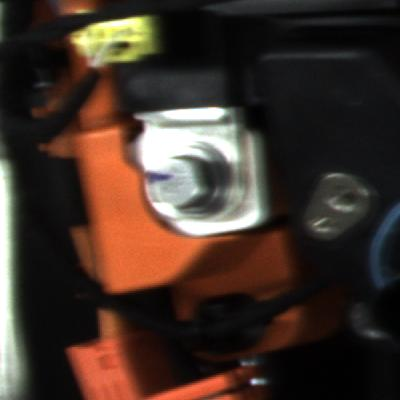nut_b: (146, 145, 239, 223)
